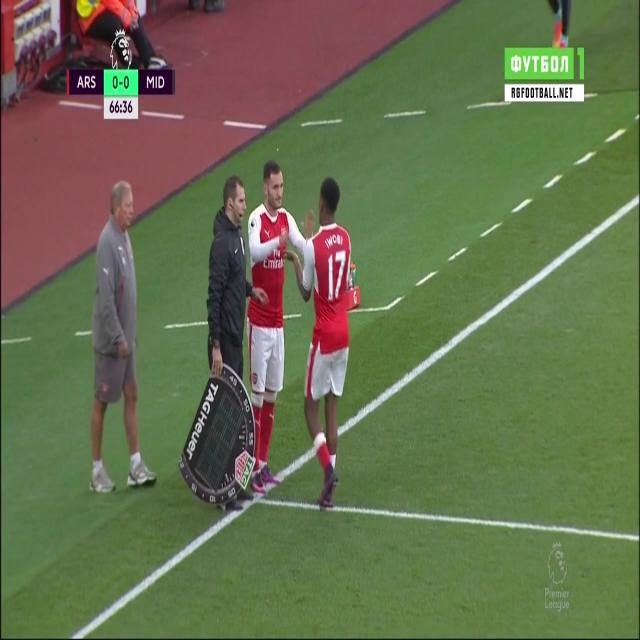Player: (291, 181, 352, 503), (248, 157, 304, 490)
